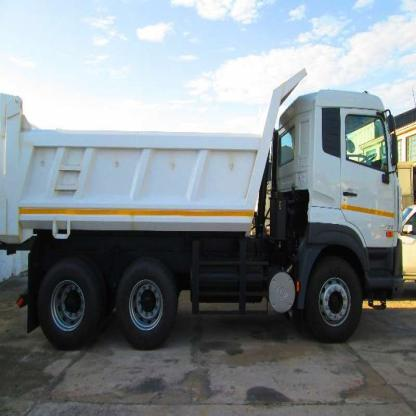dump_truck: (1, 57, 416, 350)
